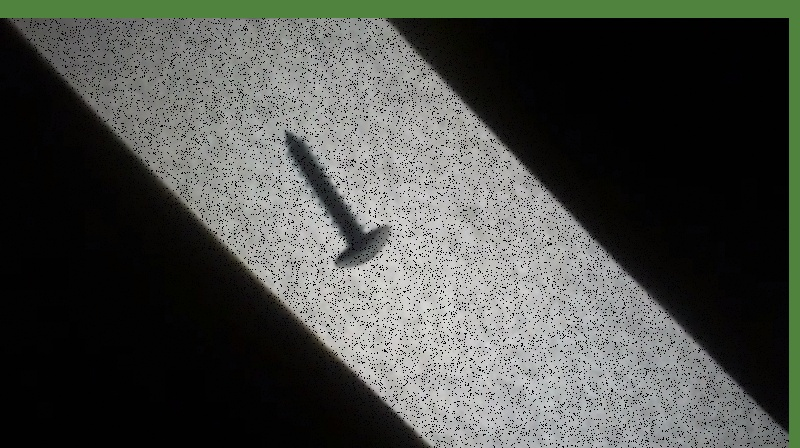S003: (279, 126, 393, 270)
